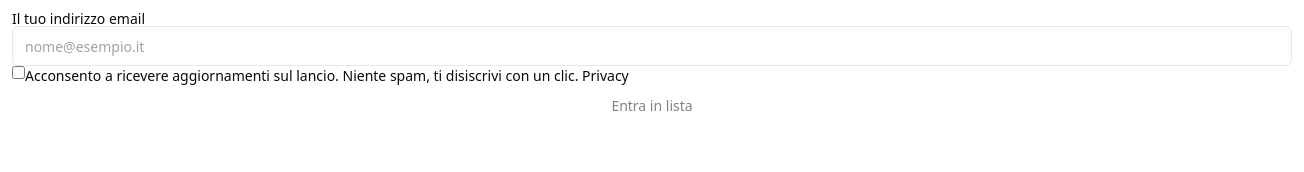
it: PUB-241/242 WaitlistForm — stati, confine /api/waitlist, consenso GDPR › AC-241-2: 200 "already" => testo successExisting (amichevole, NON un errore)
Type "mario@bar.it" into the field labelled "Il tuo indirizzo email" at (652, 46), box [12,26,1292,66]
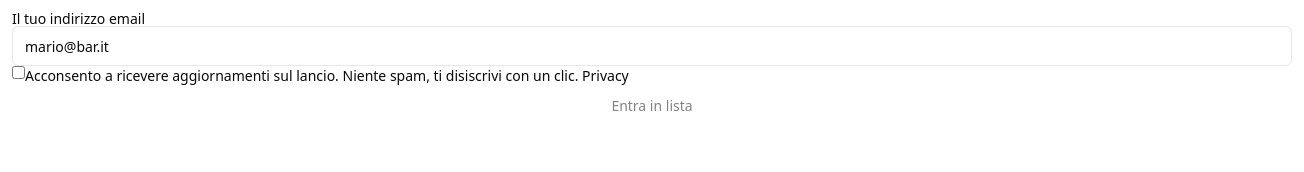
Click the checkbox at (18, 72), box [12,66,25,79]
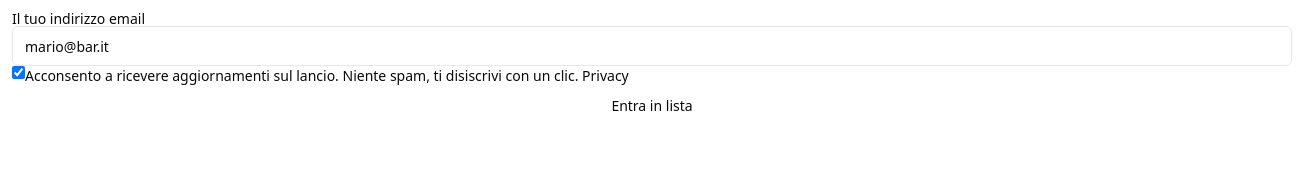
Click the button "Entra in lista" at (652, 106), box [12,86,1292,126]
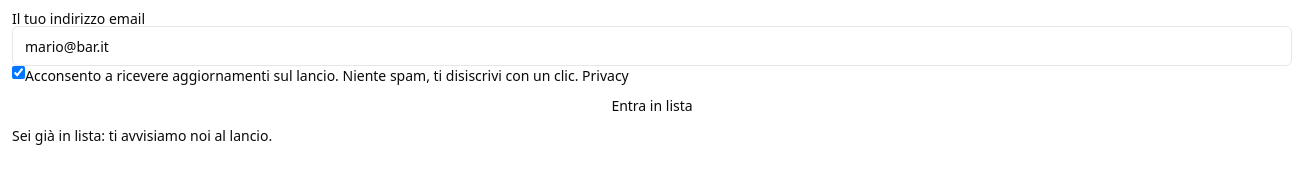
Now the text "Sei già in lista: ti avvisiamo noi al lancio." is shown, box [12,126,272,145]
